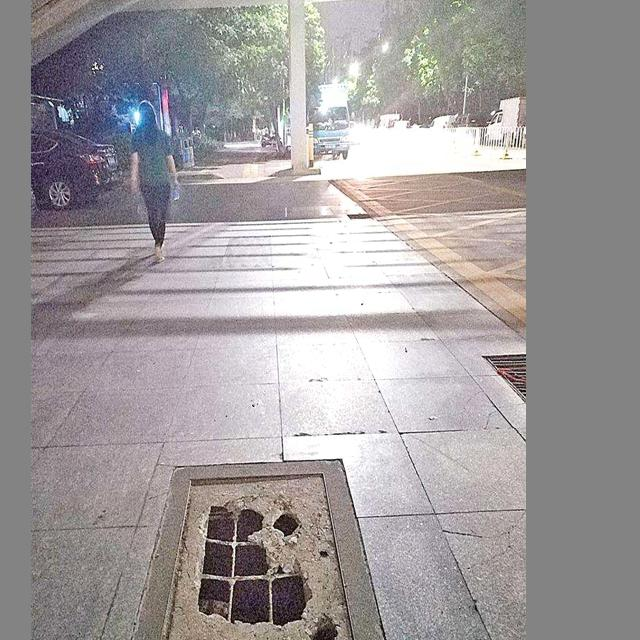broke: (117, 457, 403, 640)
